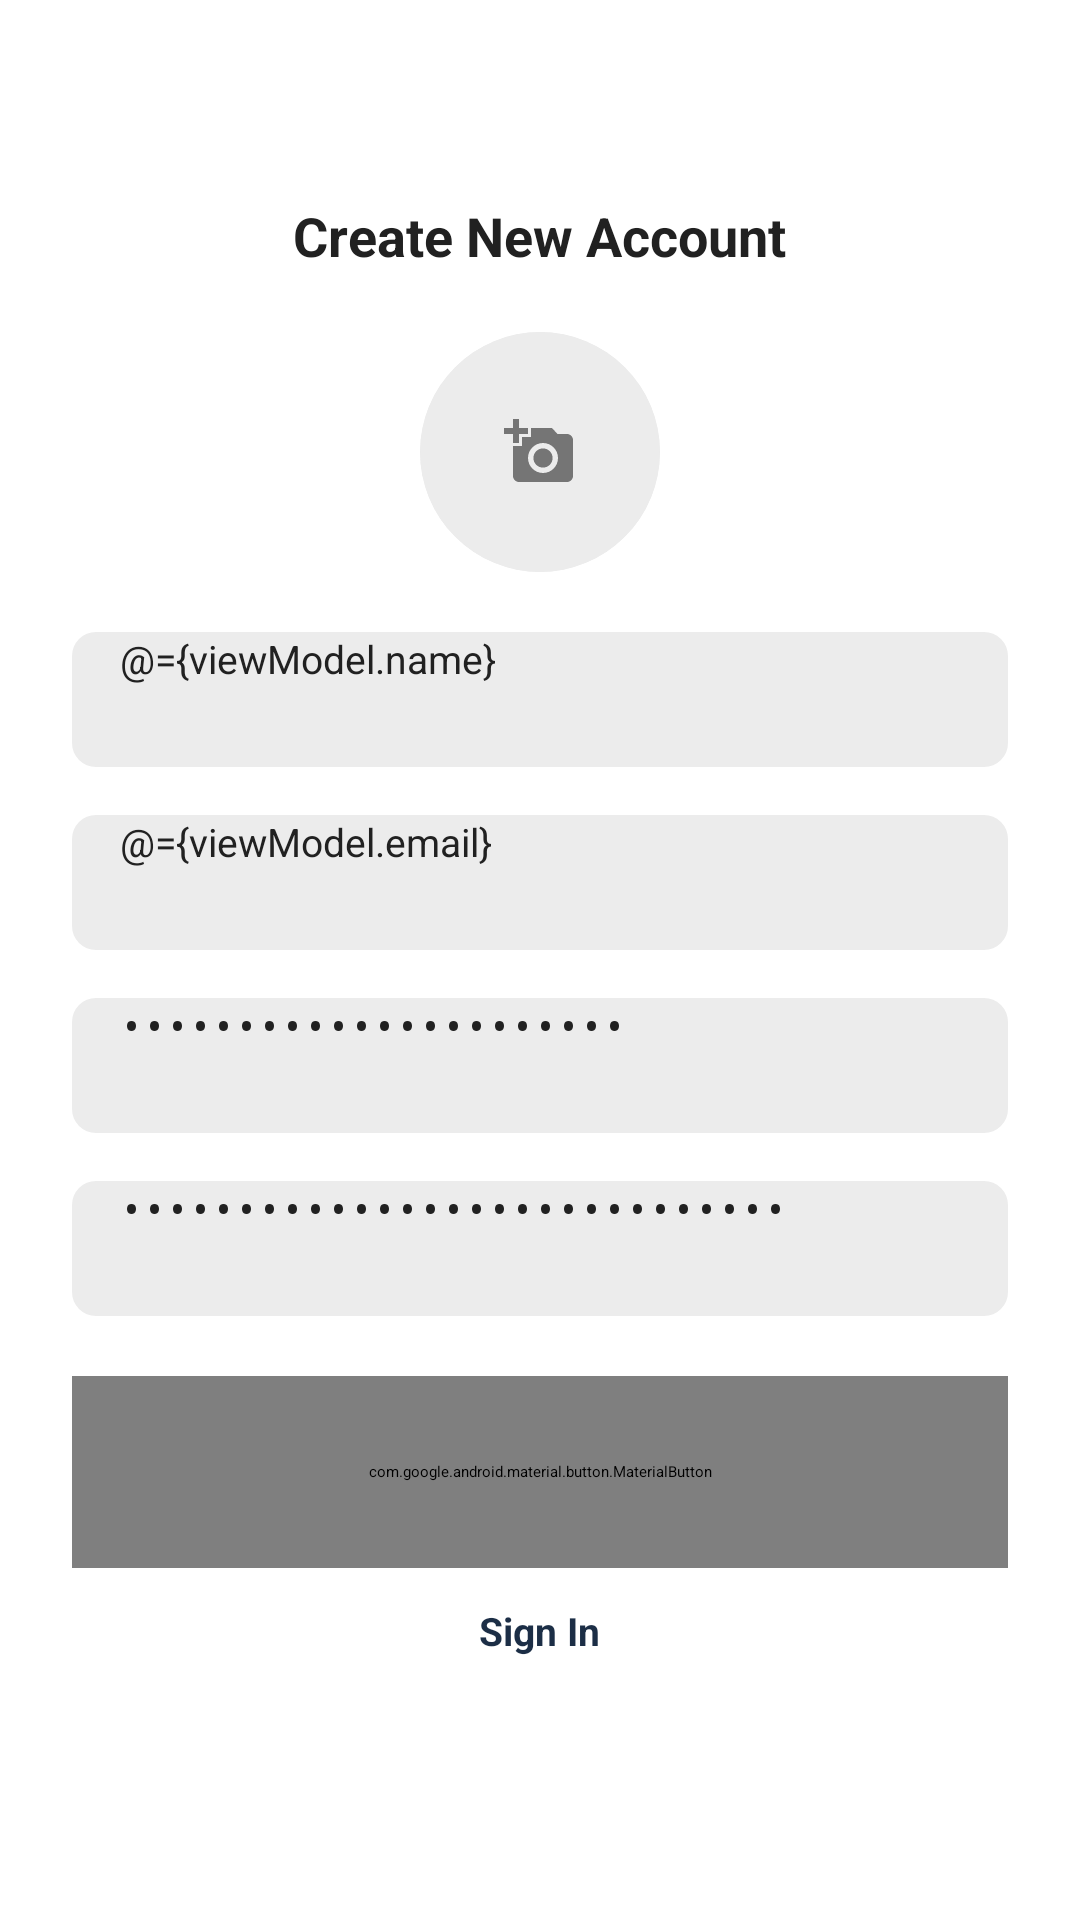

Named icons in this screenshot (1080x1920) and their centers, (x=x, y=y):
add photo: (x=538, y=450)
